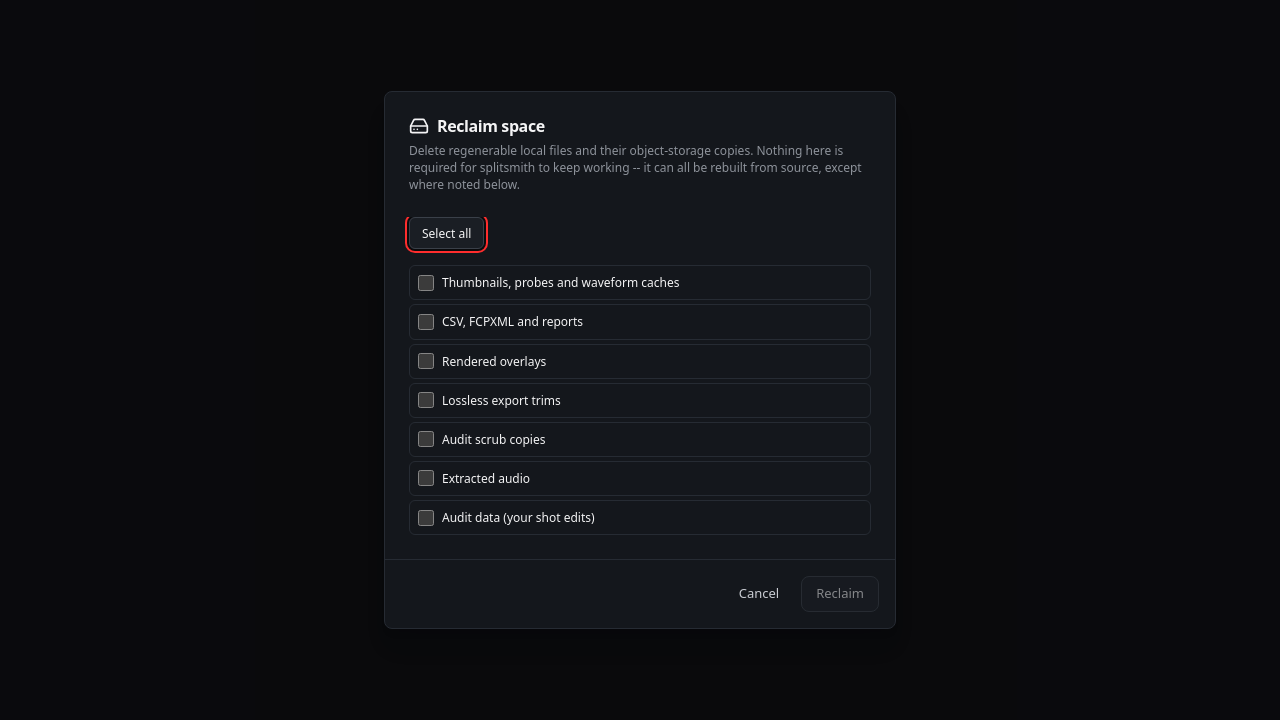
Scenario: CleanupDialog › names the blocking job on a 409 instead of failing generically
Click the button "Select all". click: (447, 233)
box: 409,217 -> 484,249
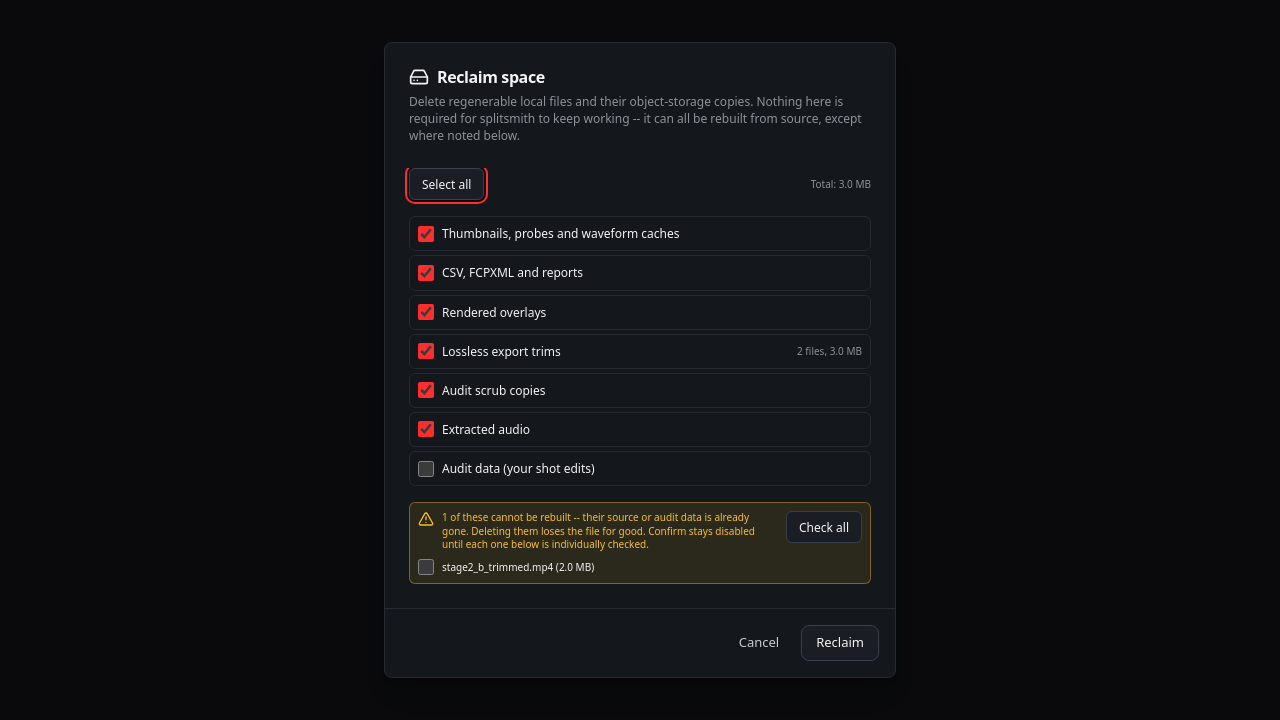
Click the checkbox labelled "stage2_b_trimmed.mp4". click: (426, 567)
box: 418,559 -> 434,575
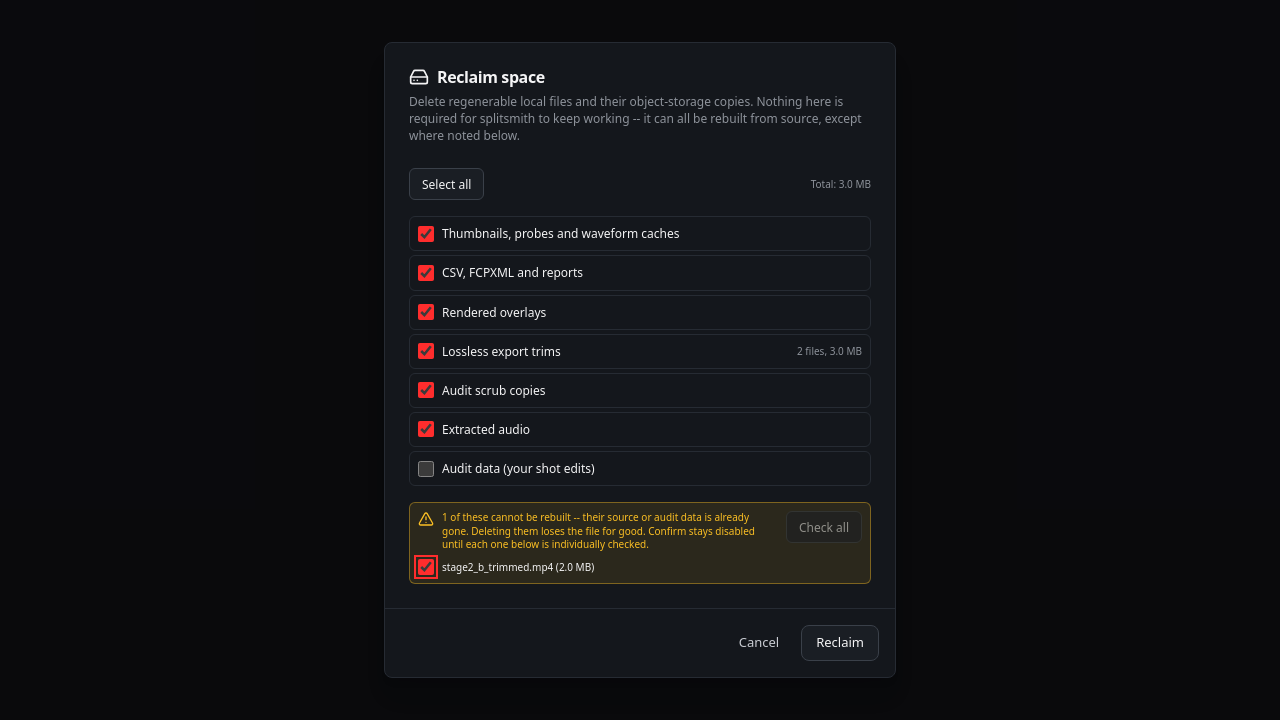
Click the button "Reclaim". click: (840, 643)
box: 801,625 -> 879,661
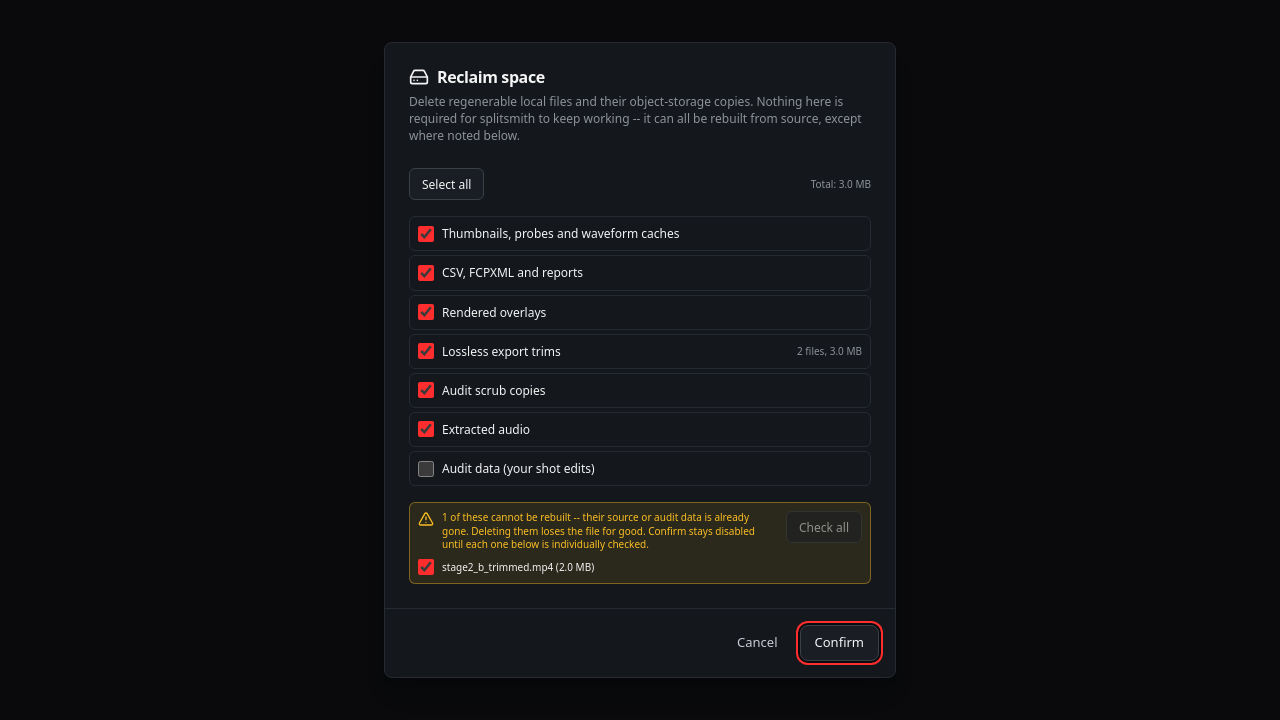
Click the button "Confirm". click: (839, 643)
box: 800,625 -> 879,661
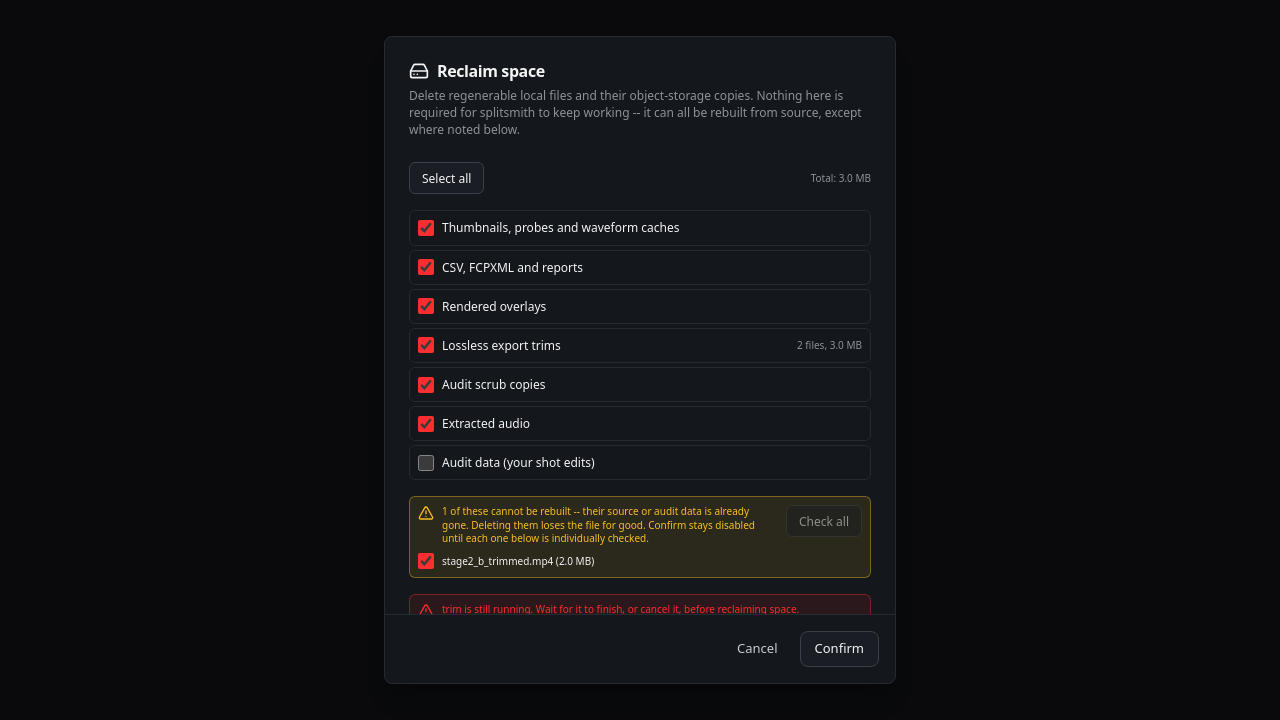
Result: the message shows "trim" at 442,602 -> 462,614
